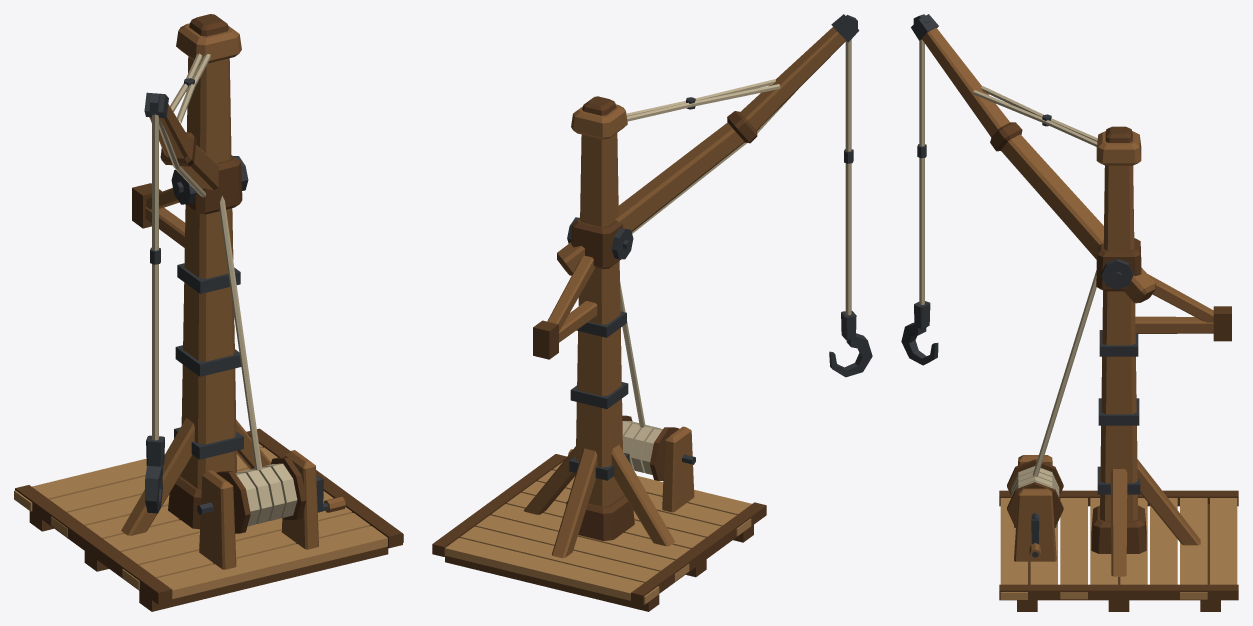
The model's file is dock-cargo-crane-ccd97f.glb.
The picture shows the model from 3 angles, left to right: view 1: azimuth 30°, elevation 25°; view 2: azimuth 150°, elevation 25°; view 3: azimuth 270°, elevation 25°; orthographic projection. The views are drawn at different scales.
Visible parts, largest first — view 1: dock-cargo-crane, winch-drum, hook-block, boom-upper, boom-lower, hook, stay-tail, crank; view 2: dock-cargo-crane, boom-lower, boom-upper, hook-block, winch-drum, stay-tail, hook; view 3: dock-cargo-crane, boom-lower, boom-upper, hook-block, winch-drum, stay-tail, hook, stay.
Part boxes in pixels (<box>): dock-cargo-crane: <box>14,14,403,611</box>; winch-drum: <box>197,457,320,533</box>; hook-block: <box>145,247,164,513</box>; boom-upper: <box>144,92,189,168</box>; boom-lower: <box>160,132,219,197</box>; hook: <box>152,114,158,250</box>; stay-tail: <box>170,78,195,123</box>; crank: <box>316,476,345,512</box>; dock-cargo-crane: <box>432,96,766,611</box>; boom-lower: <box>557,111,757,275</box>; boom-upper: <box>740,14,859,142</box>; hook-block: <box>829,149,872,377</box>; winch-drum: <box>622,415,695,480</box>; stay-tail: <box>686,79,780,109</box>; hook: <box>845,39,851,151</box>; dock-cargo-crane: <box>999,126,1238,611</box>; boom-lower: <box>990,122,1156,303</box>; boom-upper: <box>911,14,1010,137</box>; hook-block: <box>901,144,938,365</box>; winch-drum: <box>1007,459,1063,527</box>; stay-tail: <box>973,86,1051,126</box>; hook: <box>919,39,924,146</box>; stay: <box>1043,118,1097,146</box>.
Size of the model in its own units: 3.81 by 6.62 by 4.23.
